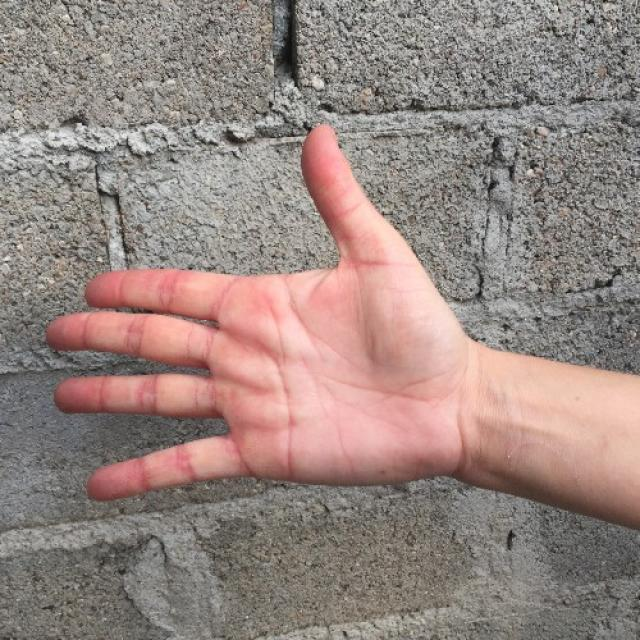paper: (50, 126, 477, 503)
